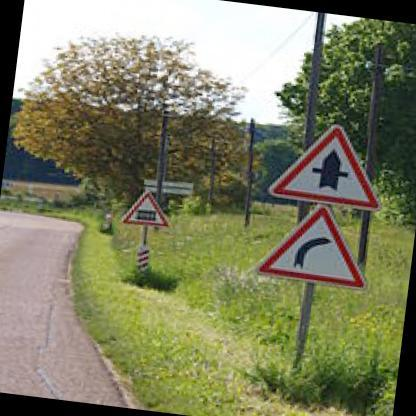road_sign: (268, 125, 379, 211), (258, 205, 364, 287), (123, 189, 169, 227)
